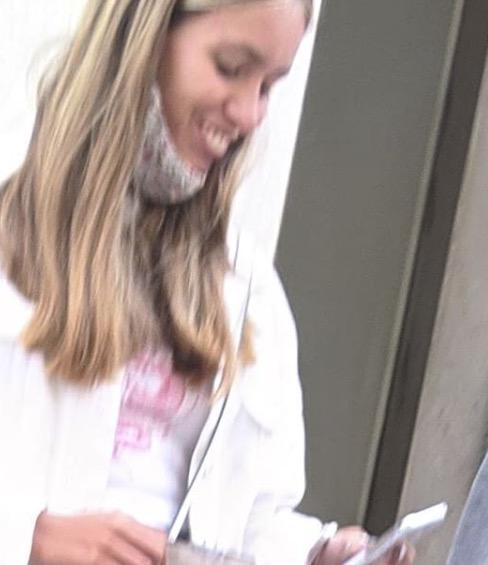mask_weared_incorrect: (117, 23, 304, 192)
